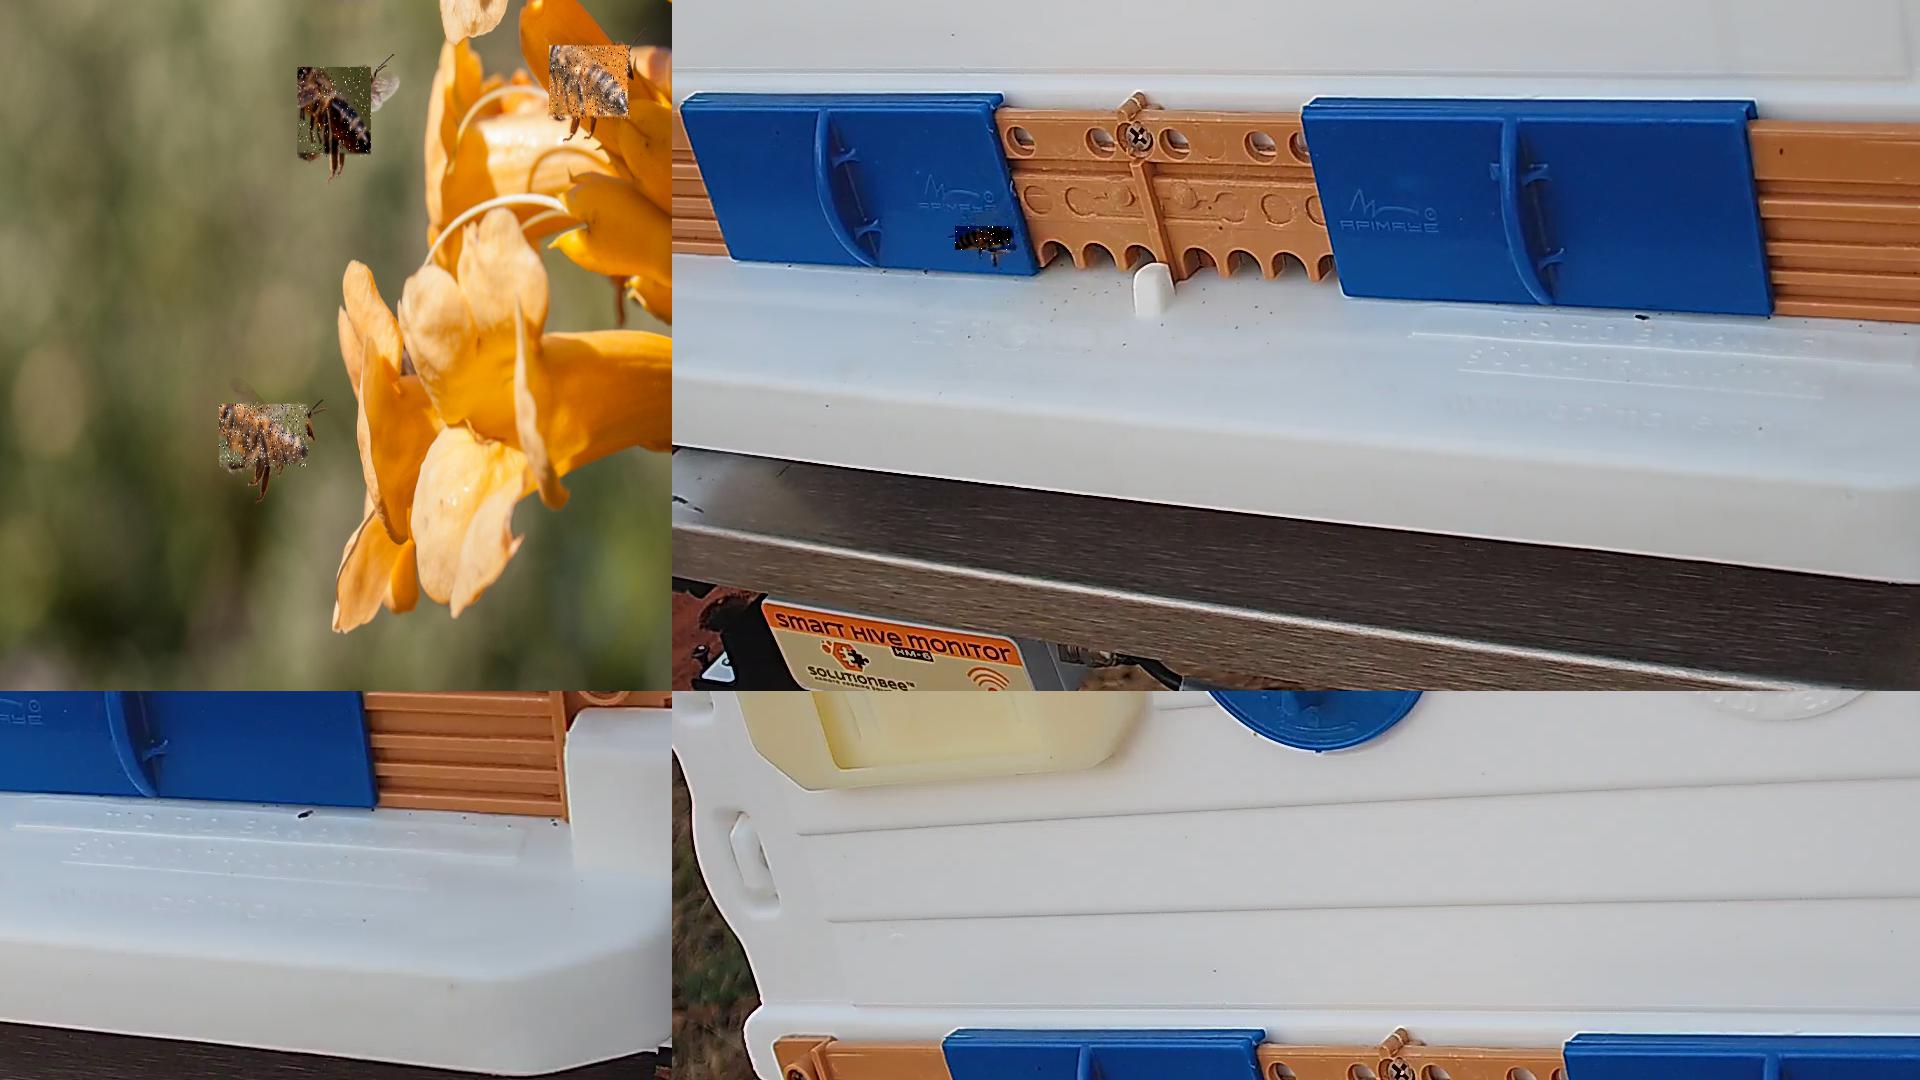bee: (298, 67, 372, 158), (550, 46, 630, 121), (219, 405, 310, 468), (955, 225, 1015, 251)
